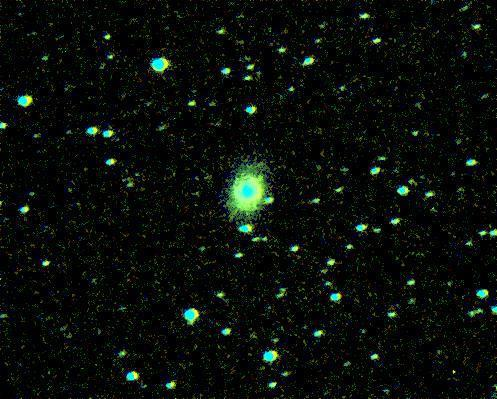star: (246, 167, 276, 197)
